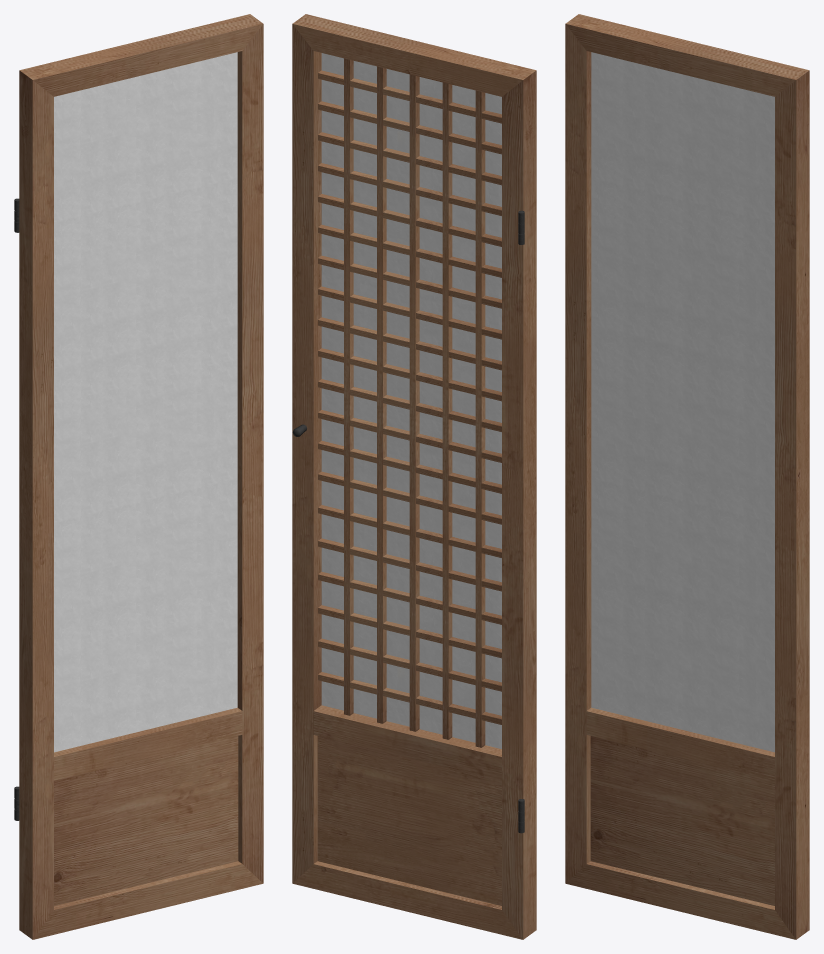
The model's file is SM_Yeonkyung_S_Haenggak_Win_E_001.fbx.
3 renders of one model, left to right at view 1: azimuth 30°, elevation 25°; view 2: azimuth 150°, elevation 25°; view 3: azimuth 330°, elevation 25°, orthographic.
Parts seen in each view (by area): view 1: SM_Yeonkyung_S_Haenggak_Win_E_001; view 2: SM_Yeonkyung_S_Haenggak_Win_E_001; view 3: SM_Yeonkyung_S_Haenggak_Win_E_001.
Boxes of the visible parts, x1,y1,x2,y2 form: SM_Yeonkyung_S_Haenggak_Win_E_001: (14, 14, 263, 939); SM_Yeonkyung_S_Haenggak_Win_E_001: (292, 14, 536, 939); SM_Yeonkyung_S_Haenggak_Win_E_001: (565, 14, 809, 939).
Bounding box in the file's own units: 50.36 × 177 × 8.18.
